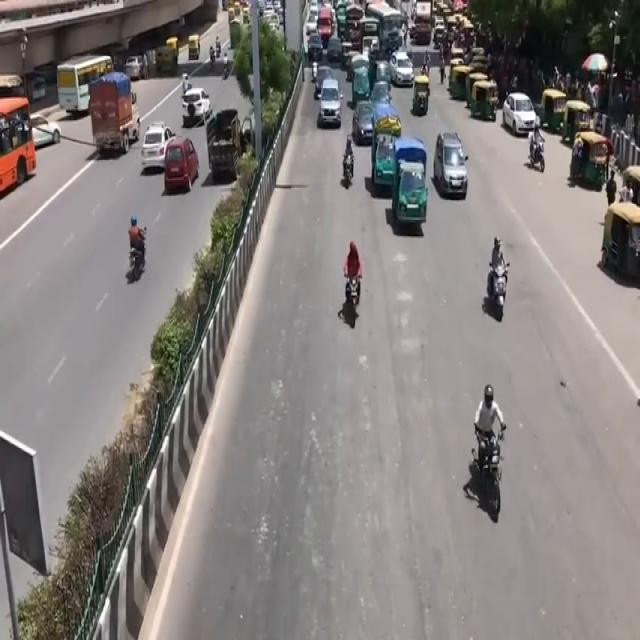BUS: (0, 92, 37, 207)
MOTORCYCLE: (483, 429, 508, 523), (491, 265, 509, 322), (346, 271, 362, 330)
SED: (434, 134, 466, 197)
TRUCK: (92, 76, 142, 160)
